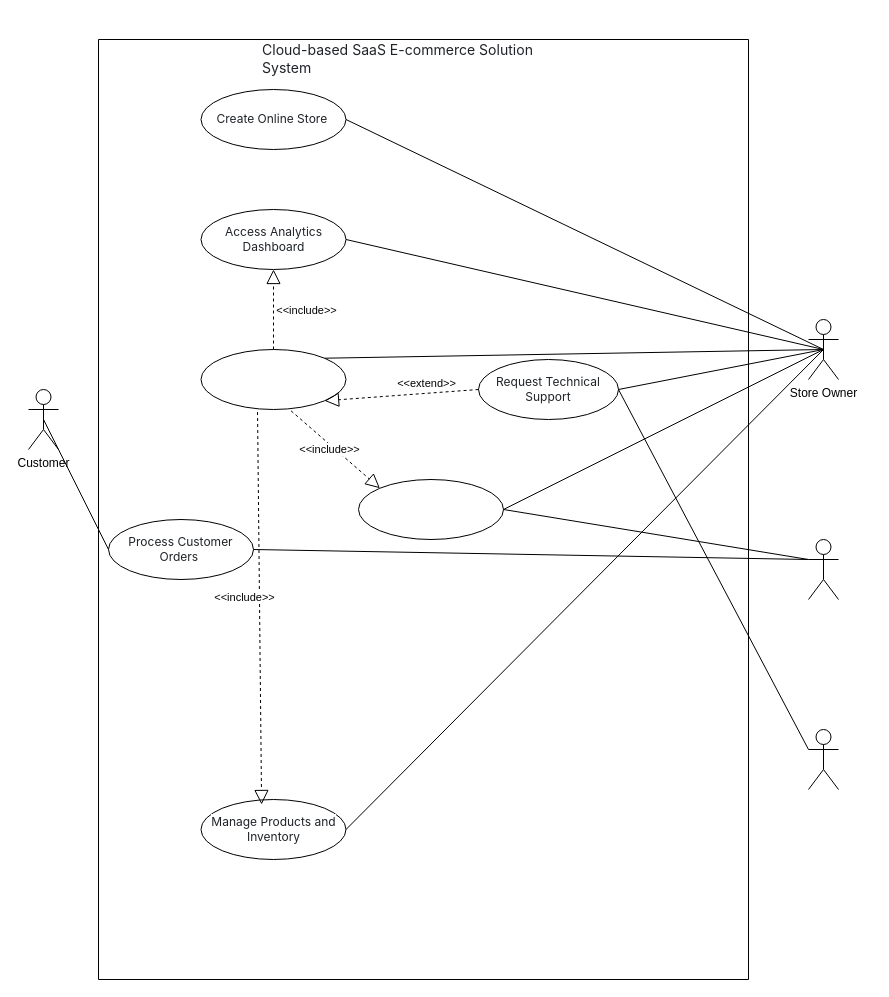
The diagram is 889 pixels wide and 997 high, and some of its shapes have lost their labels. Each missing label, with the centre of its shape:
"Configure Payment Options" goes at point 431,509.
"Manage Store" goes at point 273,379.
"Payment Gateway" goes at point 823,569.
"Support Staff" goes at point 823,759.
